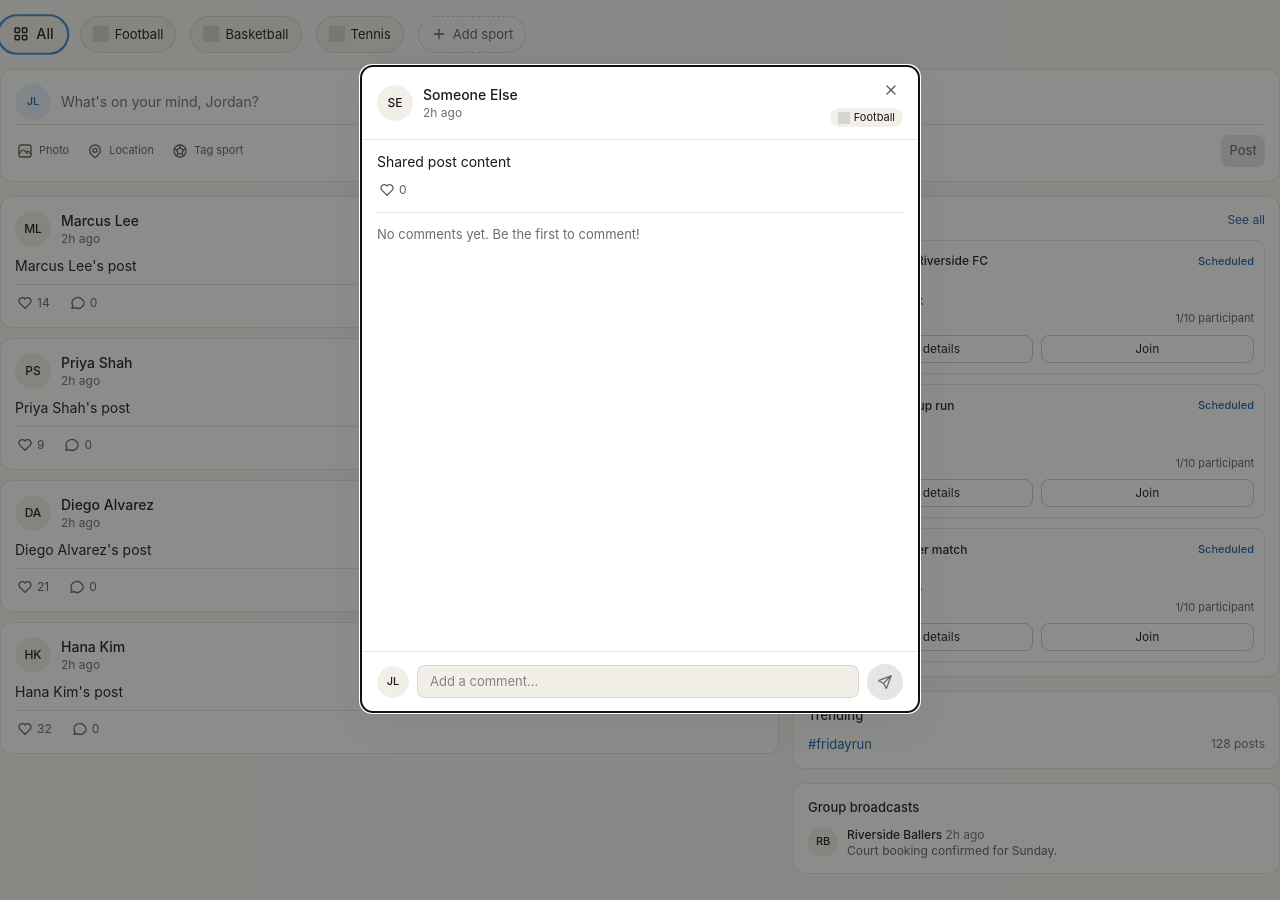
Test case: HomeFeedPage › FEED-12: closing a dialog opened via direct URL returns to a sane page state, not a bare backdrop
The width and height of the screenshot is (1280, 900).
Expected: the text "Someone Else" is shown, [423,84,518,104]
Click the button named "Close".
click(891, 90)  # box [879,78,903,102]
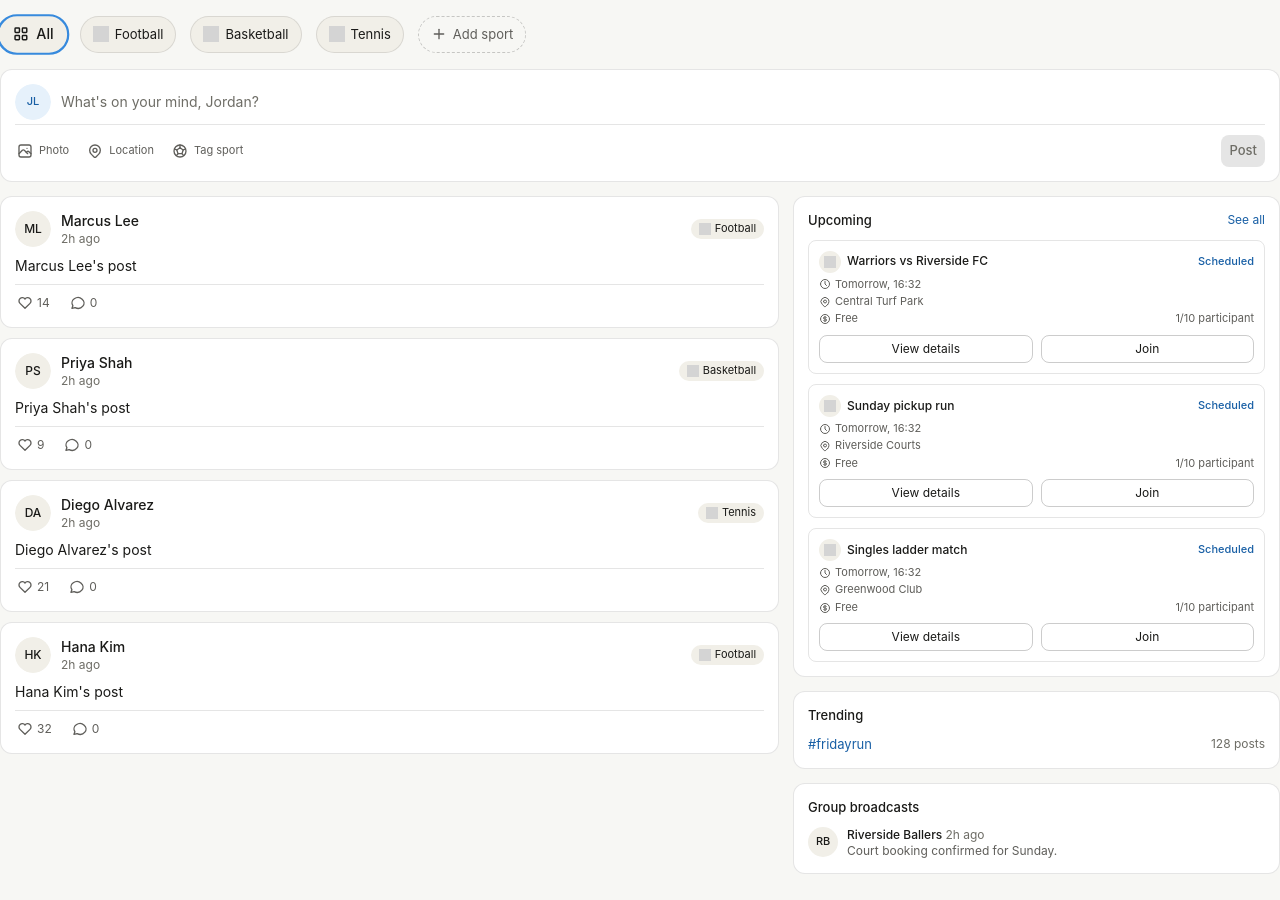
Expected: the dialog is gone
